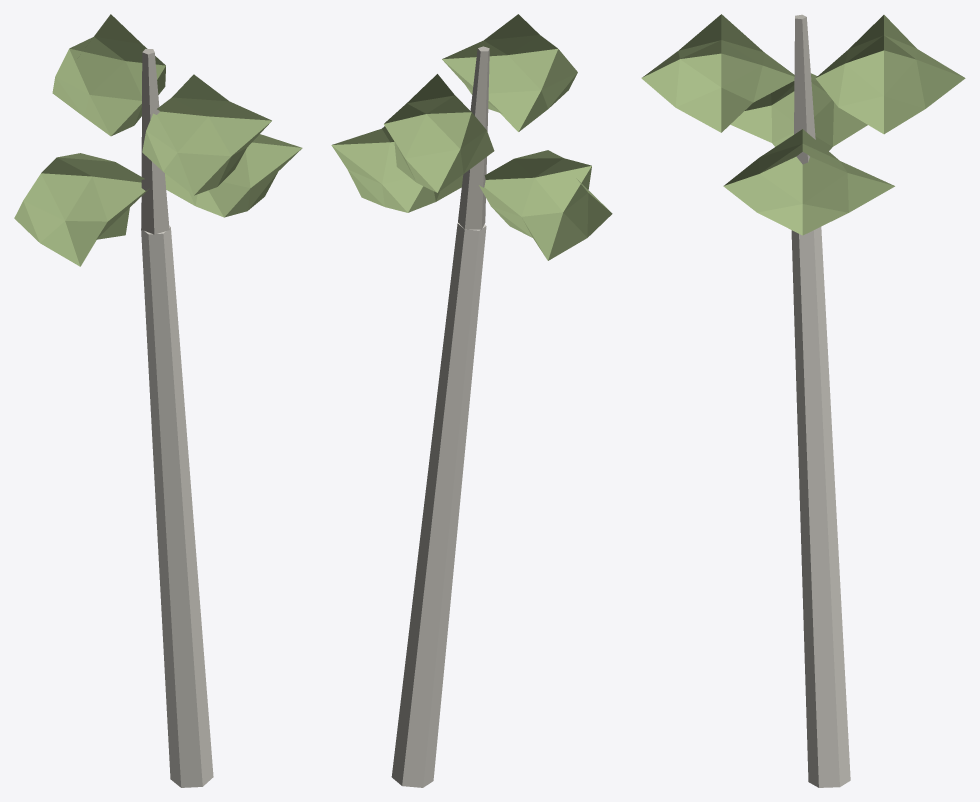
The model's file is birch_v00.glb.
3 views of the same model, side by side, from view 1: azimuth 30°, elevation 25°; view 2: azimuth 150°, elevation 25°; view 3: azimuth 270°, elevation 25° (orthographic). The views are drawn at different scales.
Visible parts, largest first — view 1: lod0; view 2: lod0; view 3: lod0.
Part boxes in pixels (x1,y1,x2,y2): lod0: (14, 14, 302, 787); lod0: (331, 14, 612, 787); lod0: (641, 14, 965, 787).
Size of what is drawn, in the model's own units: 2.01 by 5.05 by 2.
